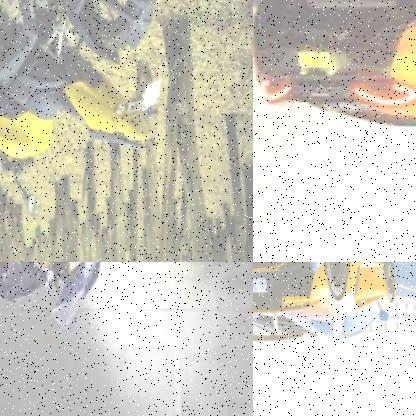bike: (0, 262, 122, 333)
car: (253, 0, 416, 141), (253, 262, 398, 346)
